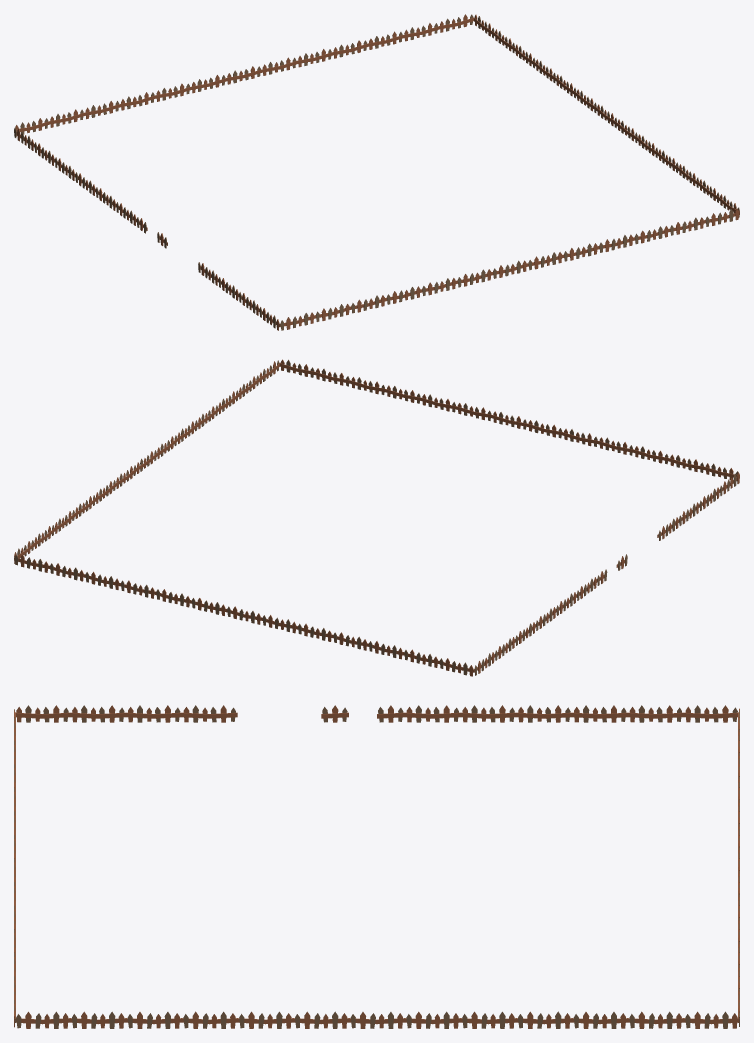
Rendered from Balles.fbx.
The picture shows the model from 3 angles, top to bottom: view 1: azimuth 30°, elevation 25°; view 2: azimuth 150°, elevation 25°; view 3: azimuth 270°, elevation 25°; orthographic projection. The views are drawn at different scales.
Visible parts, largest first — view 1: Cube.005, Cube.002, Cube.001, Cube.044, Cube.046; view 2: Cube.005, Cube.002, Cube.001, Cube.044, Cube.046; view 3: Cube.001, Cube.044, Cube.046, Cube.002, Cube.005, Cube.045.
Boxes of the visible parts, bbox=[...] form: Cube.005: bbox=[279, 208, 739, 330]; Cube.002: bbox=[14, 14, 474, 135]; Cube.001: bbox=[473, 14, 739, 217]; Cube.044: bbox=[14, 127, 136, 225]; Cube.046: bbox=[198, 262, 280, 330]; Cube.005: bbox=[279, 359, 739, 481]; Cube.002: bbox=[14, 554, 474, 676]; Cube.001: bbox=[14, 360, 280, 563]; Cube.044: bbox=[473, 577, 596, 675]; Cube.046: bbox=[657, 472, 739, 540]; Cube.001: bbox=[14, 1011, 739, 1028]; Cube.044: bbox=[405, 705, 737, 722]; Cube.046: bbox=[16, 705, 237, 722]; Cube.002: bbox=[738, 708, 739, 1026]; Cube.005: bbox=[14, 709, 15, 1027]; Cube.045: bbox=[321, 705, 404, 722].
Bounding box in the file's own units: 156 × 4.05 × 156.
